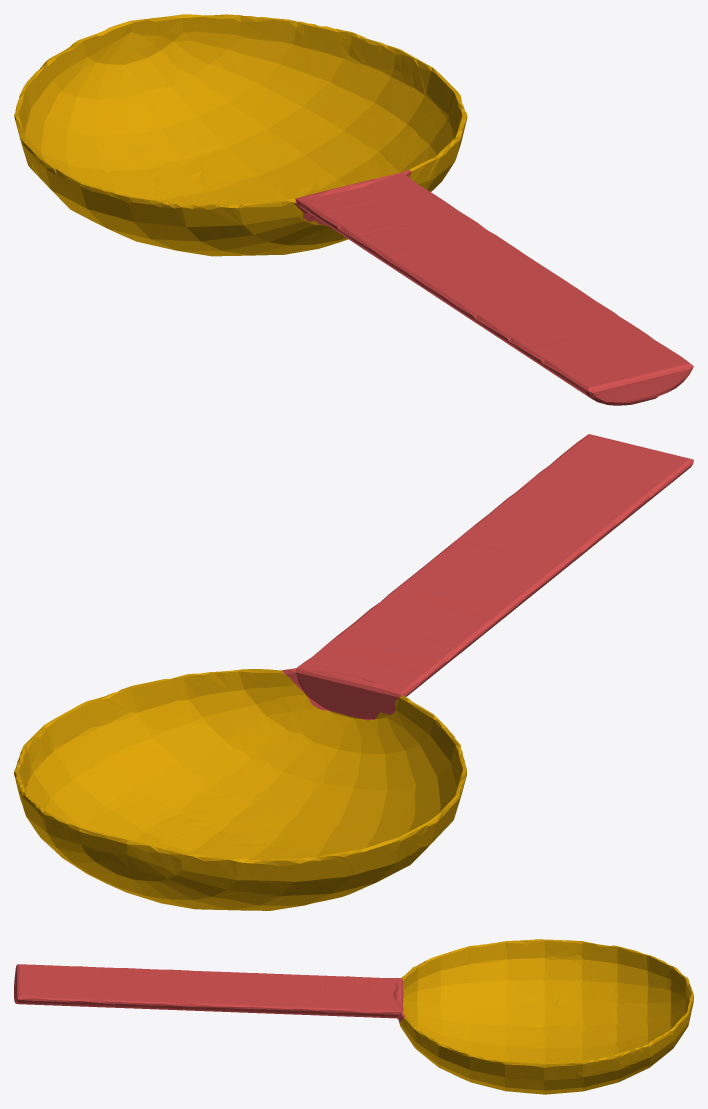
File: mode_1_2pcs.glb
3 renders of one model, top to bottom at view 1: azimuth 30°, elevation 25°; view 2: azimuth 150°, elevation 25°; view 3: azimuth 270°, elevation 25°, orthographic. The views are drawn at different scales.
Parts seen in each view (by area): view 1: piece_0.obj, piece_1.obj; view 2: piece_0.obj, piece_1.obj; view 3: piece_0.obj, piece_1.obj.
Boxes of the visible parts, x1,y1,x2,y2 form: piece_0.obj: (14, 14, 467, 256); piece_1.obj: (295, 170, 693, 405); piece_0.obj: (14, 669, 466, 910); piece_1.obj: (282, 434, 693, 720); piece_0.obj: (400, 939, 693, 1094); piece_1.obj: (14, 964, 405, 1023).
Bounding box in the file's own units: 0.4374 × 0.1453 × 1.
